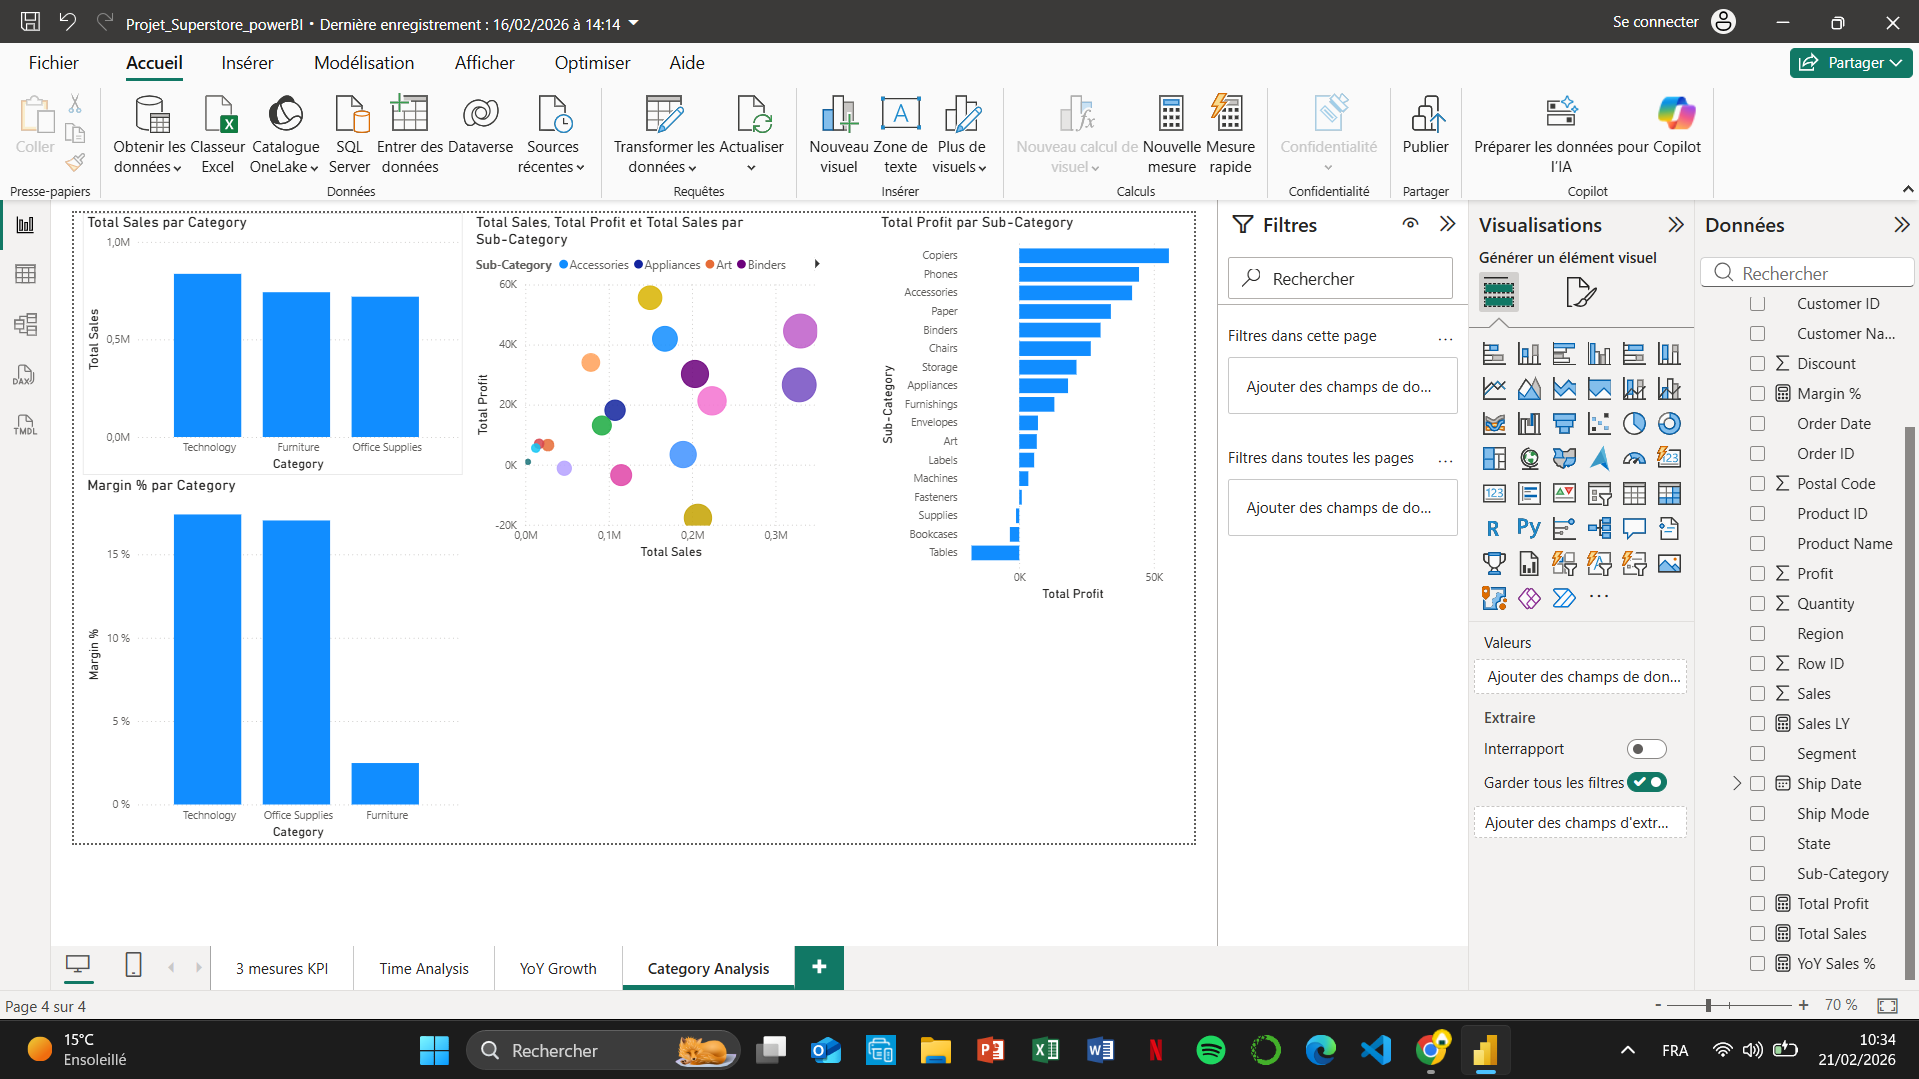

This screenshot's page, from the dashboard's own definition file:
{"tool":"powerbi","page":{"name":"Category Analysis","canvas":[1280,720],"ordinal":3},"visuals":[{"type":"clusteredColumnChart","fields":{"Category":["Fact_Sales.Category"],"Y":["Fact_Sales.Total Sales"]},"box":[10,0,434.3,300],"z":0},{"type":"clusteredBarChart","fields":{"Category":["Fact_Sales.Sub-Category"],"Y":["Fact_Sales.Total Profit"]},"box":[917.1,0,362.9,448.6],"z":1},{"type":"clusteredColumnChart","fields":{"Category":["Fact_Sales.Category"],"Y":["Fact_Sales.Margin %"]},"box":[10,300,434.3,420],"z":2},{"type":"scatterChart","fields":{"X":["Fact_Sales.Total Sales"],"Y":["Fact_Sales.Total Profit"],"Series":["Fact_Sales.Sub-Category"],"Size":["Fact_Sales.Total Sales"]},"box":[472.9,0,414.3,400],"z":3}]}

Visuals, with their boxes on the page's 1280x720 design canvas (x1, y1, x2, y2). These are canvas units, not pixel positions in the 1919x1079 screenshot, which may show the page scaled, cropped or inside an application window:
clusteredColumnChart - Fact_Sales.Category x Fact_Sales.Total Sales: select_region(10, 0, 444, 300)
clusteredBarChart - Fact_Sales.Sub-Category x Fact_Sales.Total Profit: select_region(917, 0, 1280, 449)
clusteredColumnChart - Fact_Sales.Category x Fact_Sales.Margin %: select_region(10, 300, 444, 720)
scatterChart - Fact_Sales.Total Sales x Fact_Sales.Total Profit: select_region(473, 0, 887, 400)
